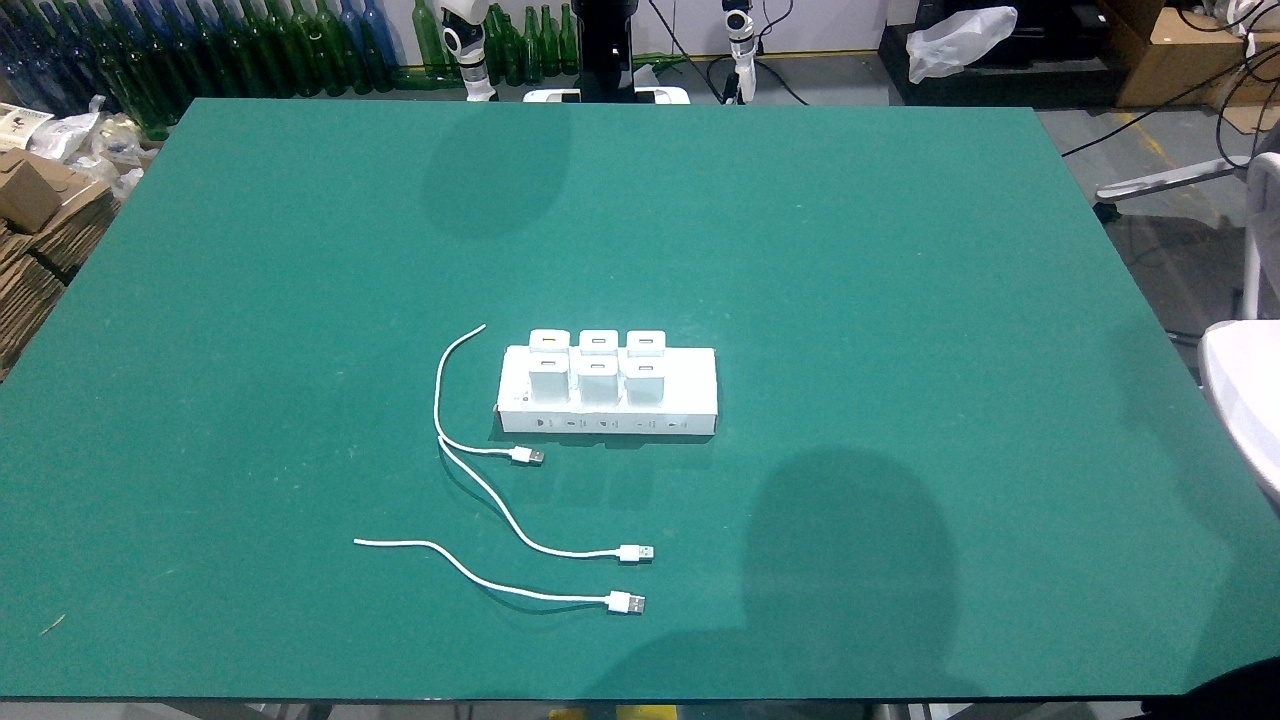usb_a_port: (539, 359, 556, 367), (589, 338, 607, 345), (589, 362, 607, 369), (637, 338, 654, 345), (637, 365, 654, 372), (541, 336, 557, 343)
